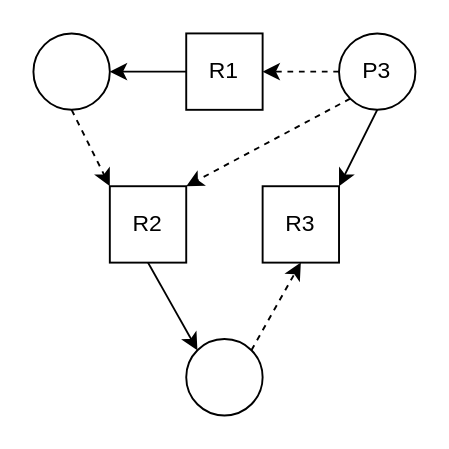
Image size: 449x449. Some labels were removed from this diagram. Each missing label, with the centre of its shape:
P1: (x=71, y=71)
P2: (x=223, y=376)
